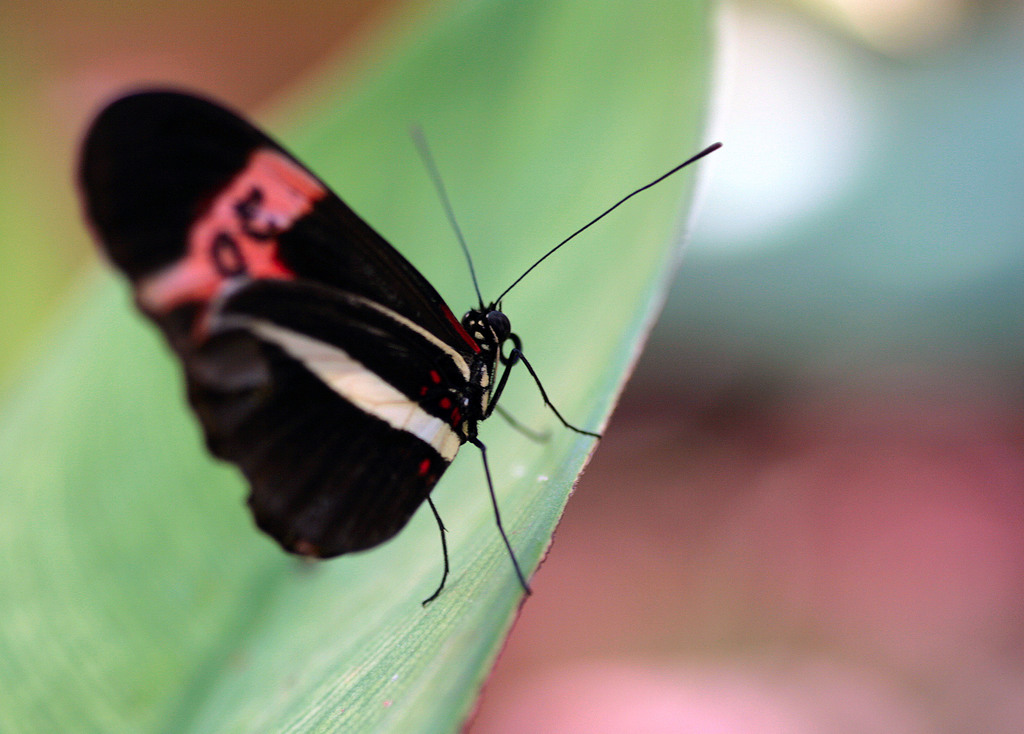Butterfly: (66, 72, 602, 578)
